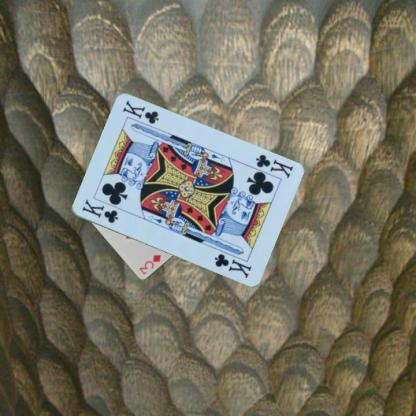3d: (136, 253, 162, 276)
Kc: (79, 196, 119, 225), (253, 152, 294, 180)
